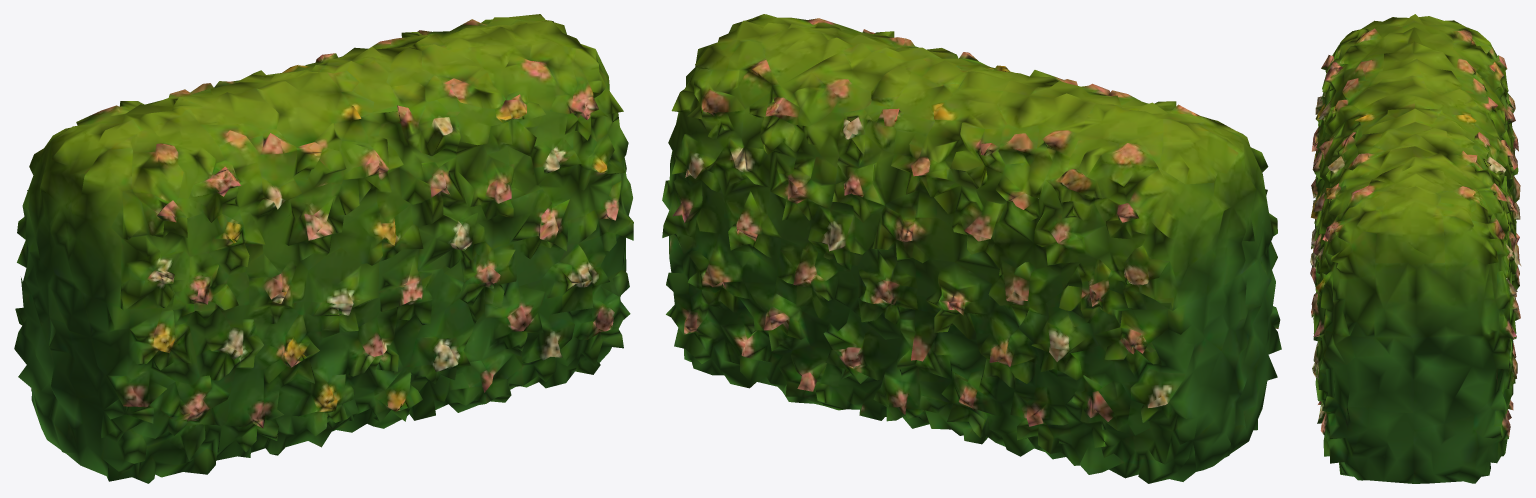
The model's file is maze_hedge_wall.glb.
The picture shows the model from 3 angles, left to right: view 1: azimuth 30°, elevation 25°; view 2: azimuth 150°, elevation 25°; view 3: azimuth 270°, elevation 25°; orthographic projection. The views are drawn at different scales.
Visible parts, largest first — view 1: tripo_node_fe08932b-beb1-493c-8144-024a18d4d7b2; view 2: tripo_node_fe08932b-beb1-493c-8144-024a18d4d7b2; view 3: tripo_node_fe08932b-beb1-493c-8144-024a18d4d7b2.
Part boxes in pixels (x1,y1,x2,y2): tripo_node_fe08932b-beb1-493c-8144-024a18d4d7b2: (14, 14, 633, 483); tripo_node_fe08932b-beb1-493c-8144-024a18d4d7b2: (662, 14, 1281, 483); tripo_node_fe08932b-beb1-493c-8144-024a18d4d7b2: (1310, 14, 1521, 483).
Bounding box in the file's own units: 0.9786 × 0.5679 × 0.3806.
Materials: 1 (1 with a texture image).
